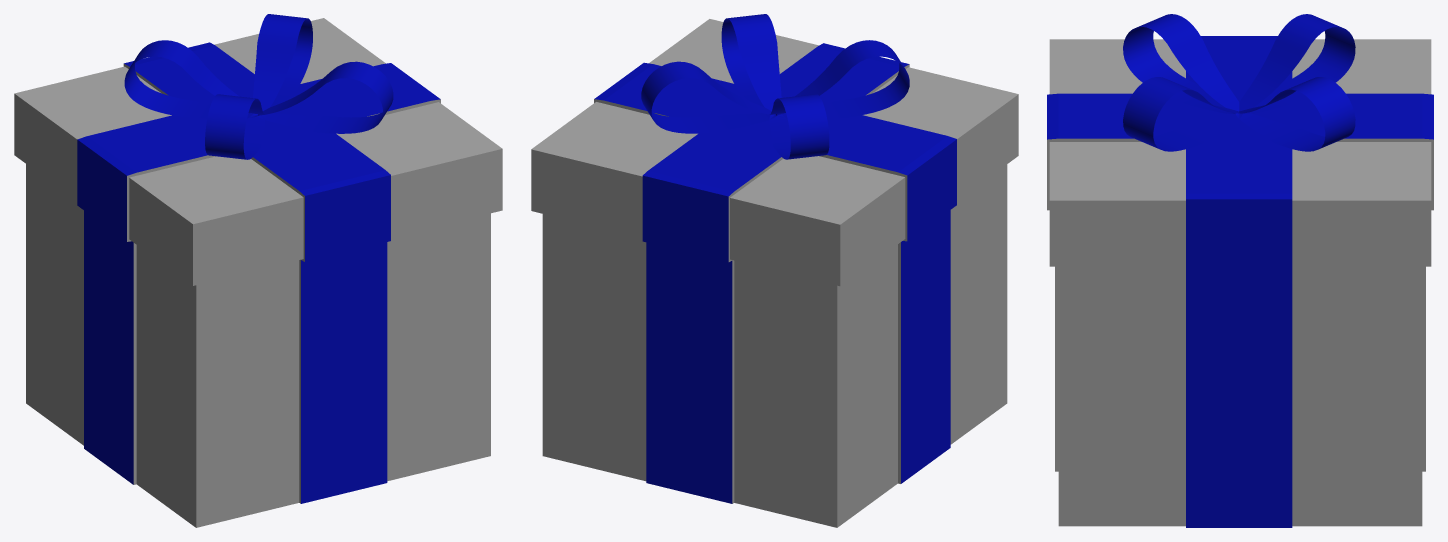
The model's file is Present Small Blue.glb.
3 views of the same model, side by side, from view 1: azimuth 30°, elevation 25°; view 2: azimuth 150°, elevation 25°; view 3: azimuth 270°, elevation 25° (orthographic). The views are drawn at different scales.
Parts seen in each view (by area): view 1: Cube, BézierCircle.001, BézierCircle.003, BézierCircle, BézierCircle.004; view 2: Cube, BézierCircle, BézierCircle.004, BézierCircle.001, BézierCircle.003; view 3: Cube, BézierCircle.003, BézierCircle.004, BézierCircle.001, BézierCircle.
Boxes of the visible parts, <box> form: Cube: <box>14,18,502,527</box>; BézierCircle.001: <box>253,14,312,110</box>; BézierCircle.003: <box>124,40,258,118</box>; BézierCircle: <box>258,61,393,133</box>; BézierCircle.004: <box>205,94,264,159</box>; Cube: <box>531,19,1018,527</box>; BézierCircle: <box>721,14,781,110</box>; BézierCircle.004: <box>776,40,909,118</box>; BézierCircle.001: <box>641,61,776,133</box>; BézierCircle.003: <box>769,94,829,159</box>; Cube: <box>1047,36,1433,527</box>; BézierCircle.003: <box>1239,14,1355,113</box>; BézierCircle.004: <box>1123,14,1239,113</box>; BézierCircle.001: <box>1236,77,1355,151</box>; BézierCircle: <box>1123,77,1242,151</box>.
Bounding box in the file's own units: 0.4257 × 0.4805 × 0.4257.
